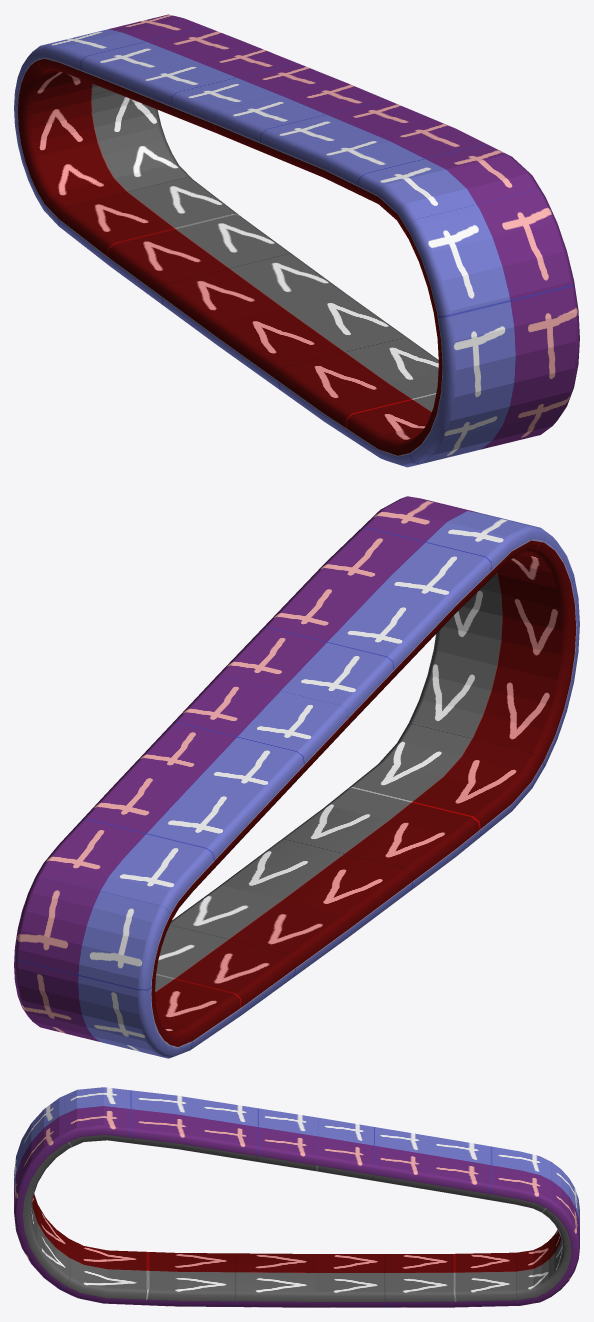
Rendered from Chenille.fbx.
The picture shows the model from 3 angles, top to bottom: view 1: azimuth 30°, elevation 25°; view 2: azimuth 150°, elevation 25°; view 3: azimuth 270°, elevation 25°; orthographic projection. The views are drawn at different scales.
Parts seen in each view (by area): view 1: SM_Chaine_Low; view 2: SM_Chaine_Low; view 3: SM_Chaine_Low.
Boxes of the visible parts, <box> form: SM_Chaine_Low: <box>14,14,579,467</box>; SM_Chaine_Low: <box>14,496,579,1058</box>; SM_Chaine_Low: <box>14,1087,579,1307</box>.
Bounding box in the file's own units: 6.28 × 12.71 × 35.66.
Materials: 1 (1 with a texture image).
